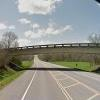Bridge: (7, 28, 100, 73)
